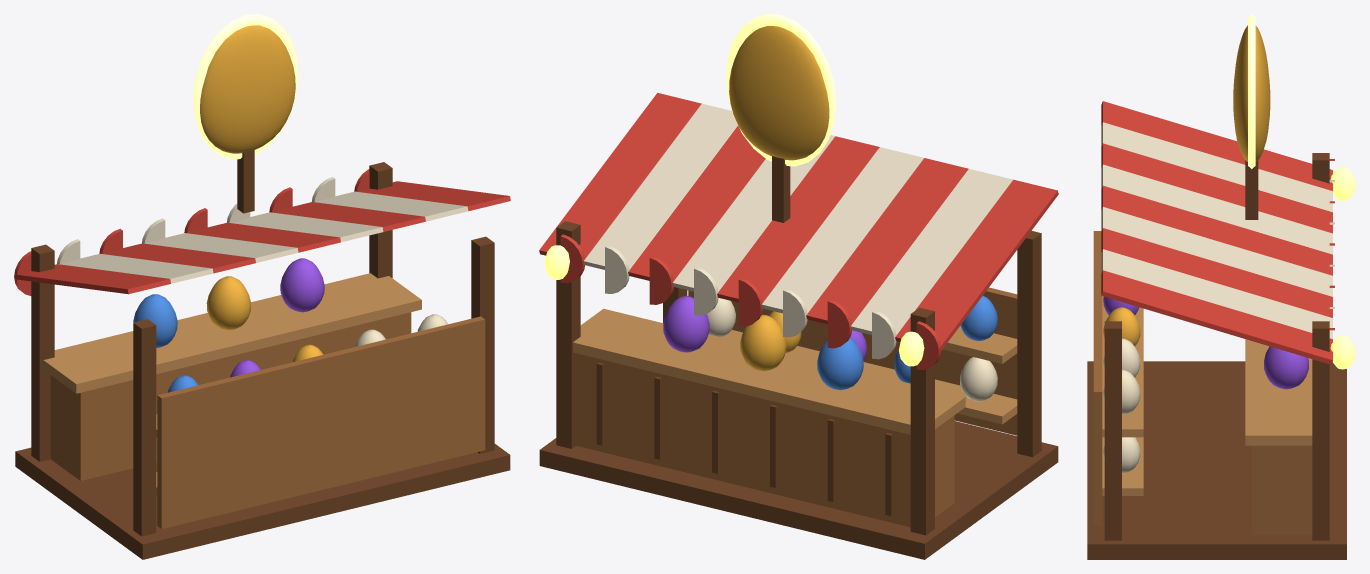
The model's file is EggShop.glb.
3 renders of one model, left to right at view 1: azimuth 30°, elevation 25°; view 2: azimuth 150°, elevation 25°; view 3: azimuth 270°, elevation 25°, orthographic. The views are drawn at different scales.
Parts seen in each view (by area): view 1: Body, HoverSign, HoverSignGlow; view 2: Body, HoverSign, HoverSignGlow, Lamp; view 3: Body, HoverSign, Lamp, HoverSignGlow.
Boxes of the visible parts, x1,y1,x2,y2 form: Body: (14, 149, 510, 559); HoverSign: (200, 25, 295, 153); HoverSignGlow: (193, 14, 298, 159); Body: (539, 93, 1058, 559); HoverSign: (729, 26, 829, 160); HoverSignGlow: (726, 14, 836, 166); Lamp: (544, 245, 924, 366); Body: (1087, 101, 1346, 559); HoverSign: (1233, 25, 1270, 161); Lamp: (1330, 167, 1355, 369); HoverSignGlow: (1248, 14, 1255, 168).
Bounding box in the file's own units: 10.4 × 11.47 × 6.2.
Materials: 4 (2 with a texture image).
